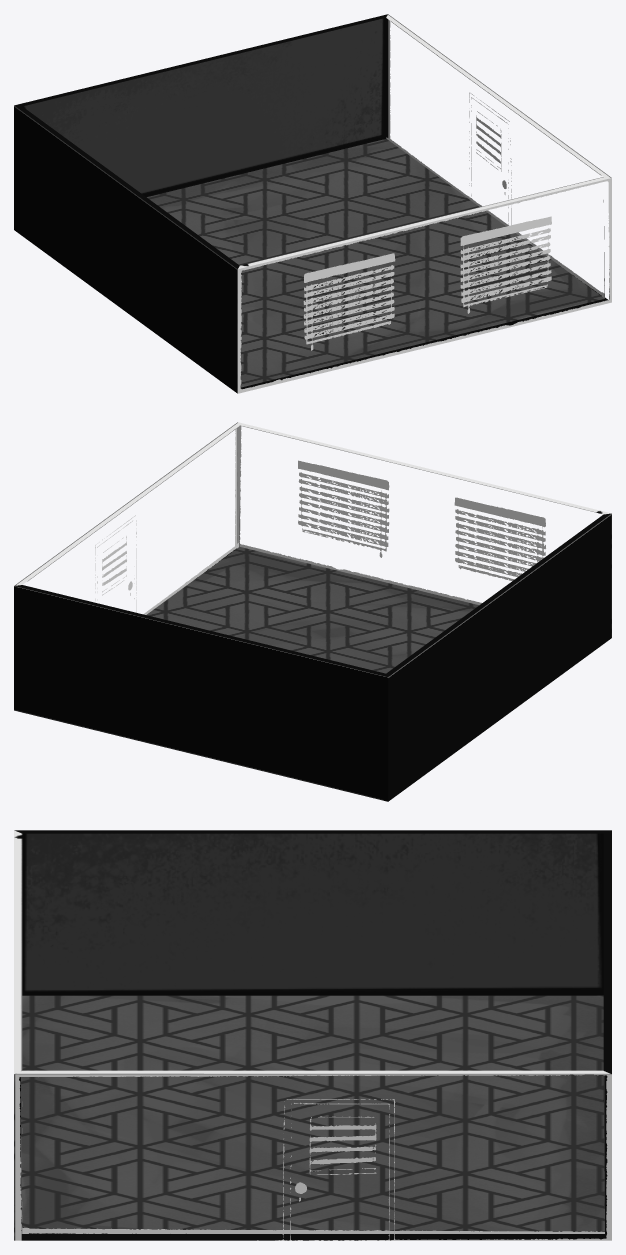
File: Delegacia.fbx
3 renders of one model, top to bottom at view 1: azimuth 30°, elevation 25°; view 2: azimuth 150°, elevation 25°; view 3: azimuth 270°, elevation 25°, orthographic. The views are drawn at different scales.
Visible parts, largest first — view 1: Cenario_delegacia; view 2: Cenario_delegacia; view 3: Cenario_delegacia.
Boxes of the visible parts, x1,y1,x2,y2 form: Cenario_delegacia: [14, 14, 611, 393]; Cenario_delegacia: [14, 422, 611, 801]; Cenario_delegacia: [14, 830, 611, 1240].
Bounding box in the file's own units: 20617 × 6558 × 21357.
